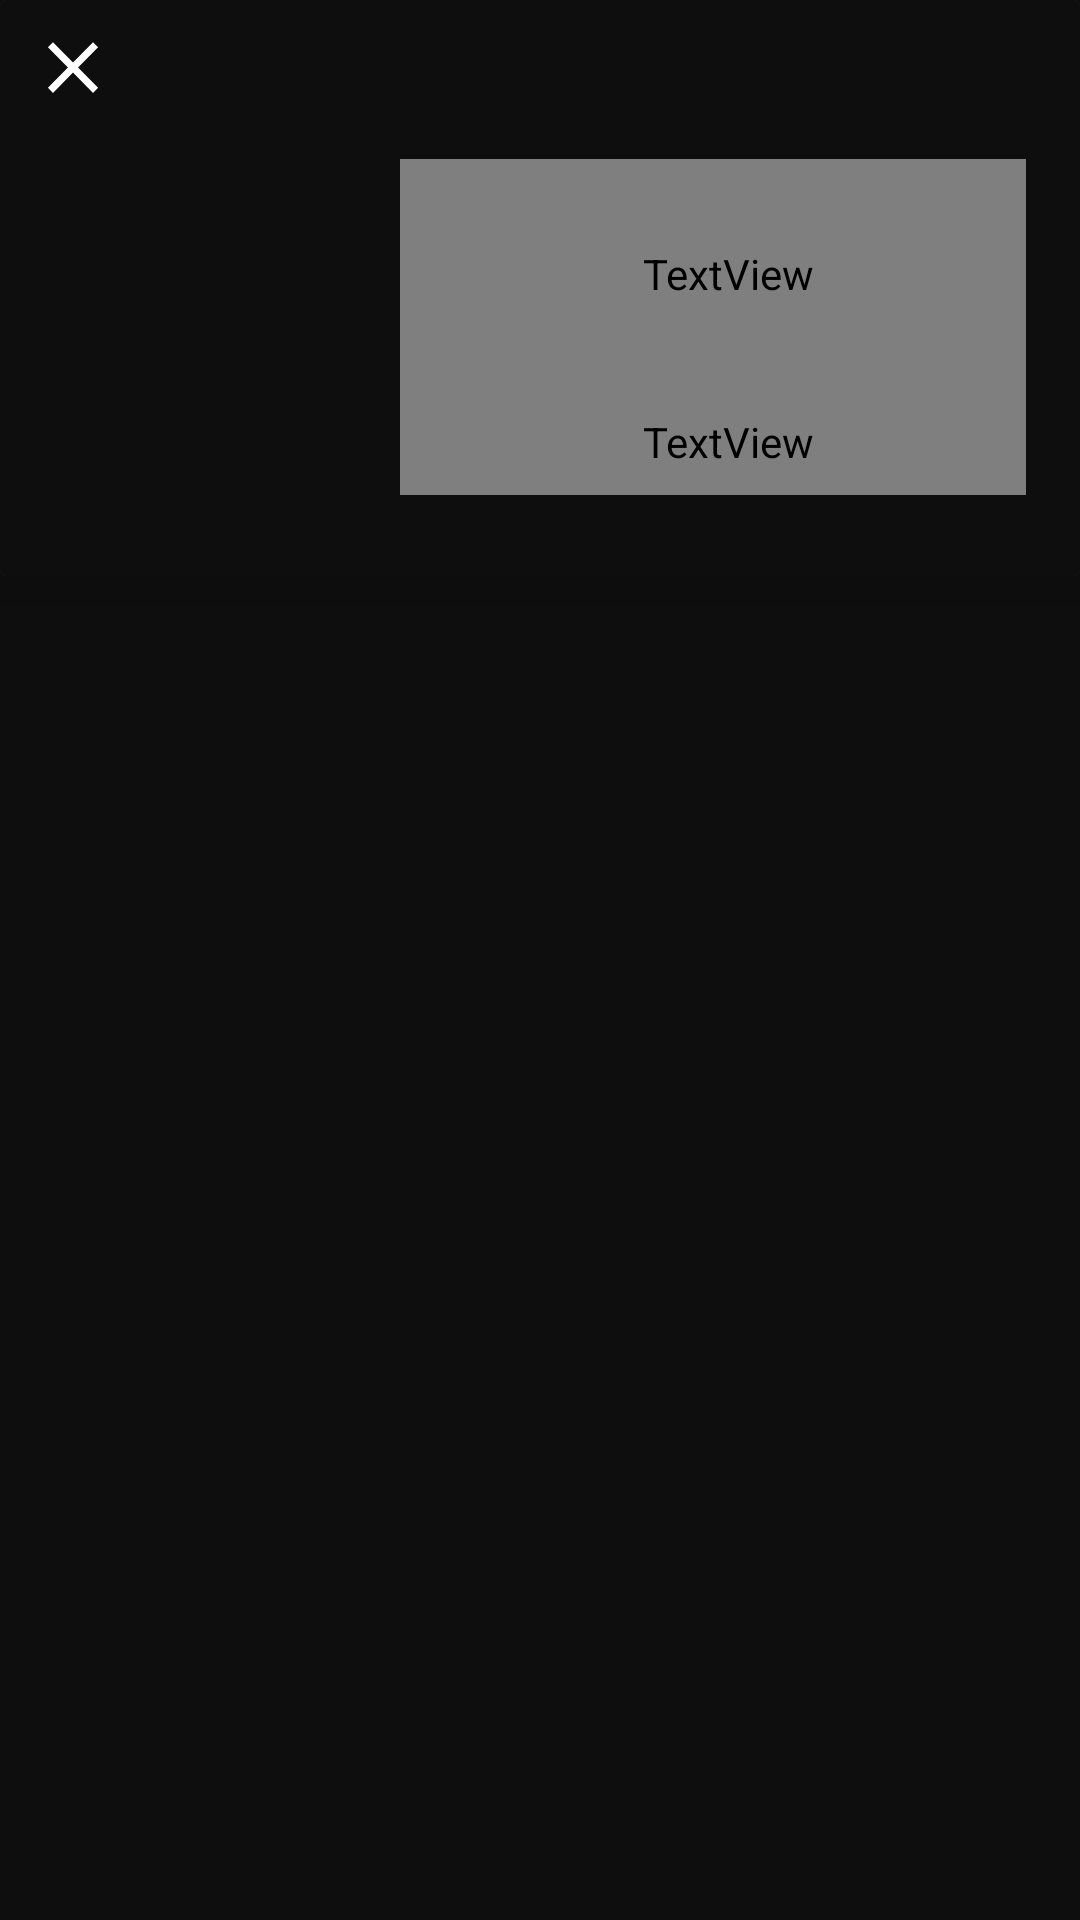

Screen size 1080×1920. Icon name, then its box in pixels as (x1, y1, x2, y2):
close: (48, 42, 98, 93)
